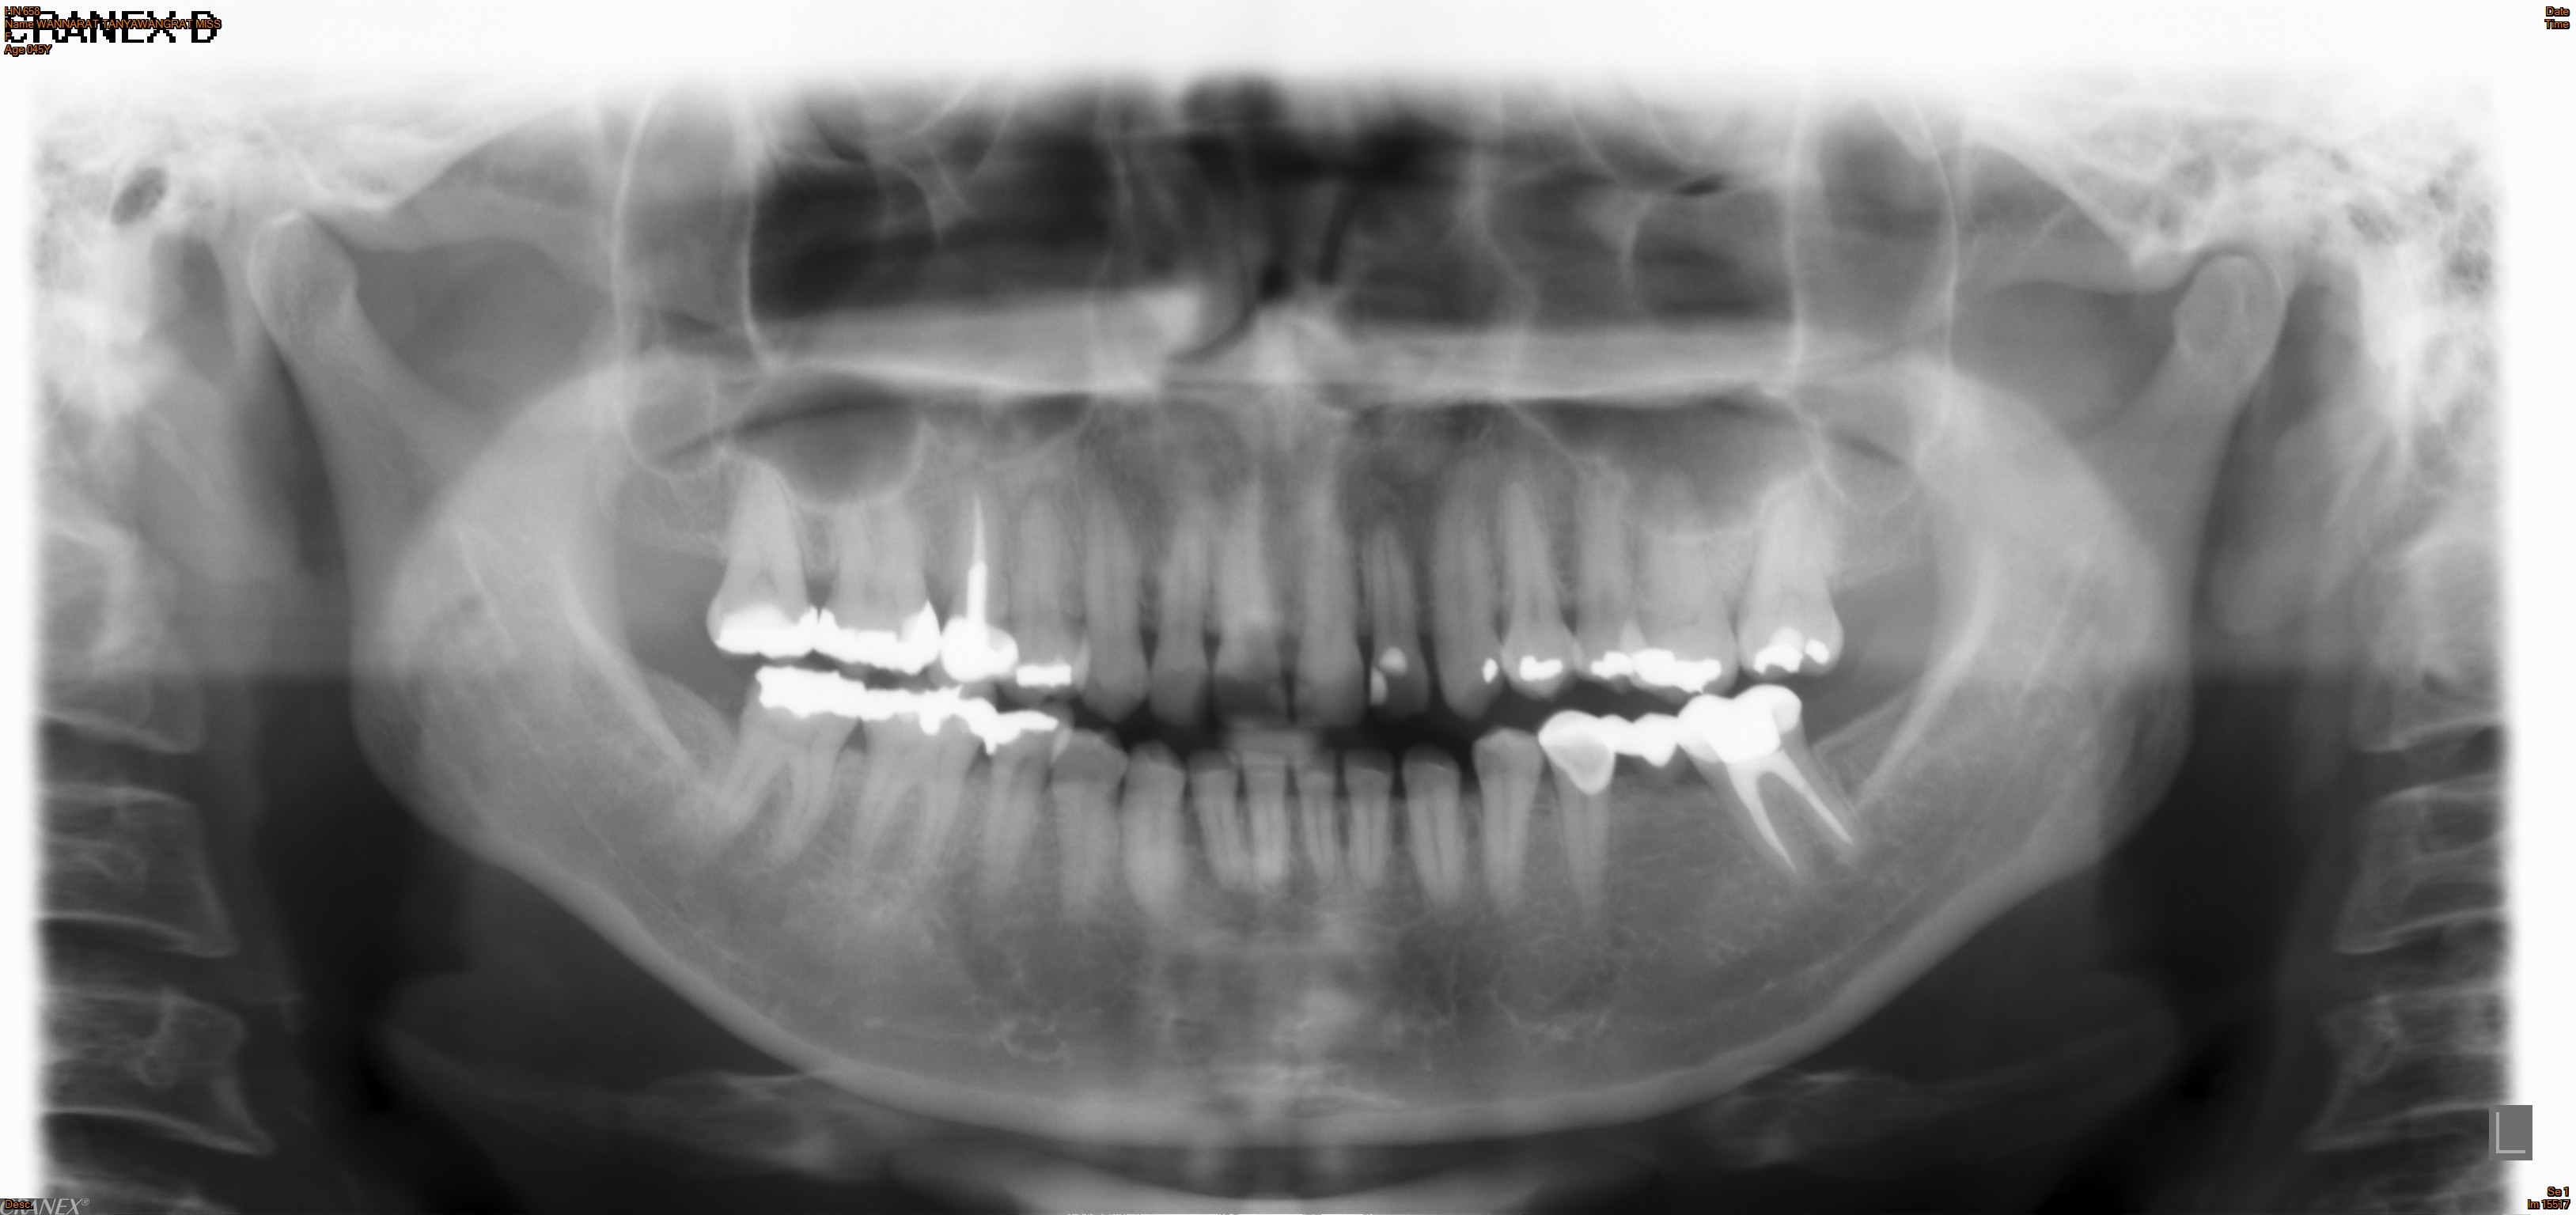periodontitis: (651, 657, 879, 877), (705, 448, 826, 665)
